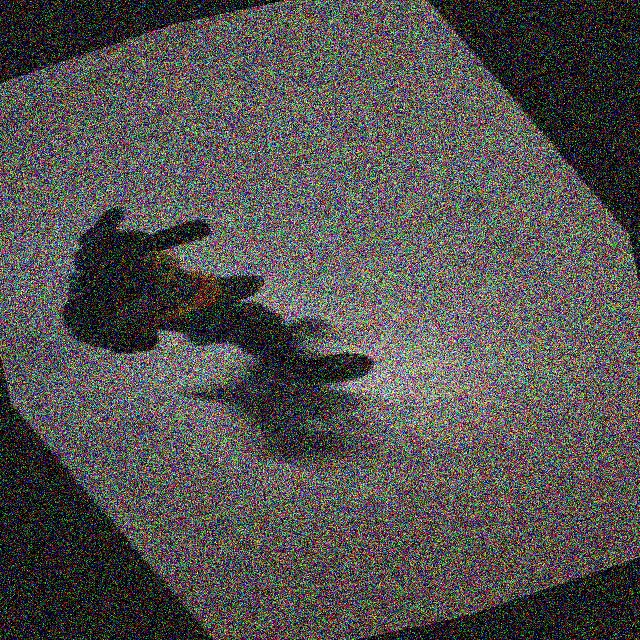Batman: (0, 140, 404, 473)
